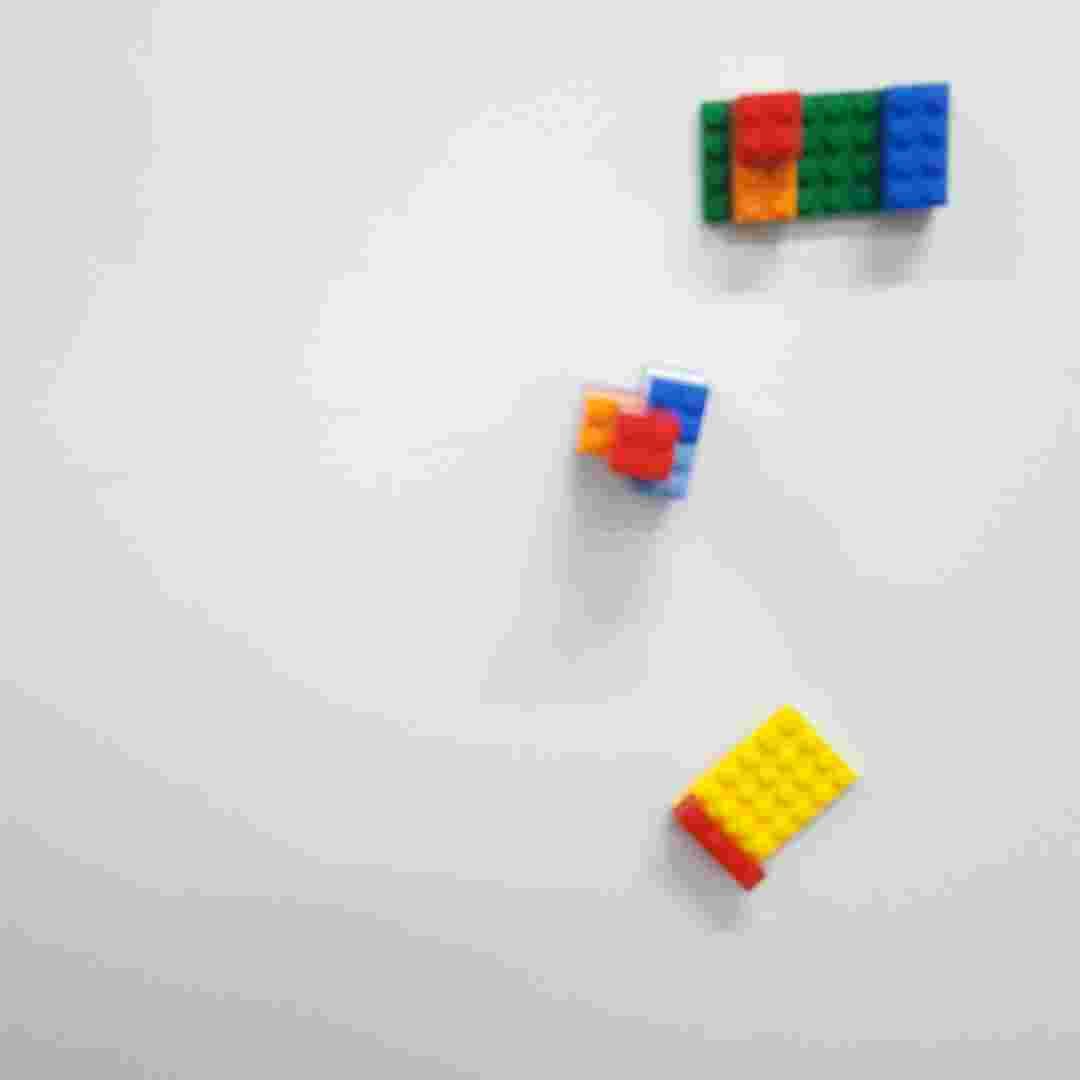LEGO: (694, 74, 957, 231), (661, 699, 870, 893), (571, 363, 712, 508)
